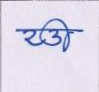i_matra: (56, 18, 71, 52)
